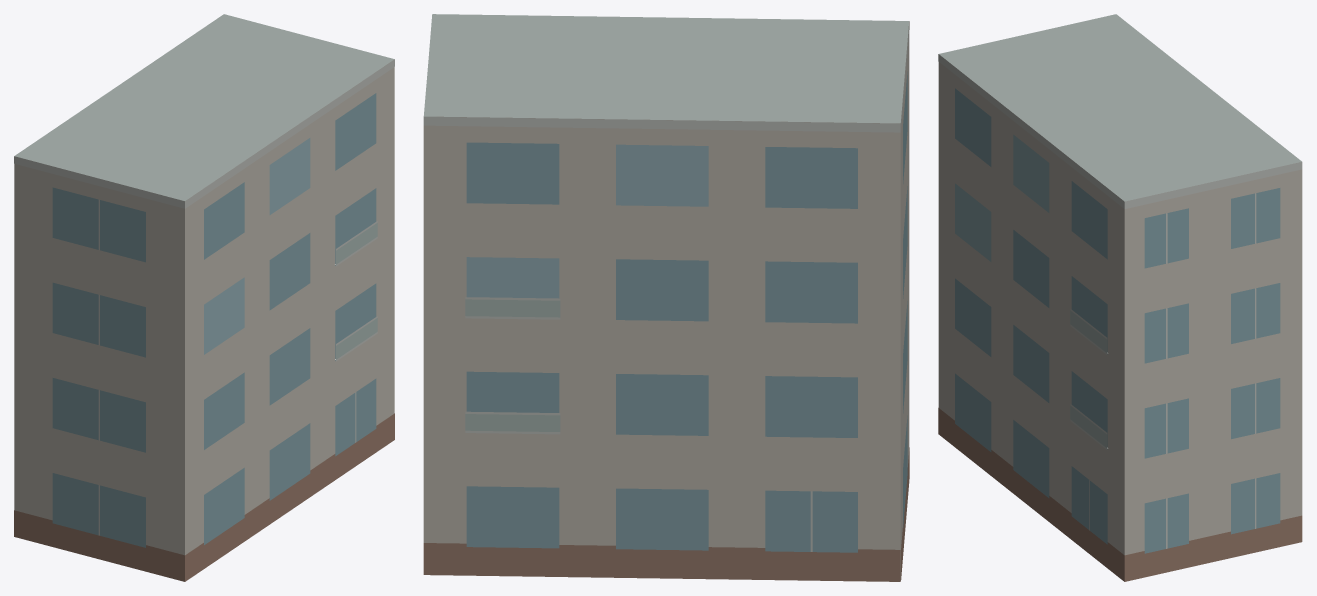
File: residential-544bc427-5621-48b2-bff6-4dfd13c130d6.glb
3 renders of one model, left to right at view 1: azimuth 30°, elevation 25°; view 2: azimuth 150°, elevation 25°; view 3: azimuth 270°, elevation 25°, orthographic. The views are drawn at different scales.
Parts seen in each view (by area): view 1: residential-544bc427-5621-48b2-bff6-4dfd13c130d6.tmp; view 2: residential-544bc427-5621-48b2-bff6-4dfd13c130d6.tmp; view 3: residential-544bc427-5621-48b2-bff6-4dfd13c130d6.tmp.
Boxes of the visible parts, <box> form: residential-544bc427-5621-48b2-bff6-4dfd13c130d6.tmp: <box>14,14,394,581</box>; residential-544bc427-5621-48b2-bff6-4dfd13c130d6.tmp: <box>423,14,909,581</box>; residential-544bc427-5621-48b2-bff6-4dfd13c130d6.tmp: <box>938,14,1302,581</box>.
Size of the model in its own units: 12.92 by 12.2 by 10.59.
